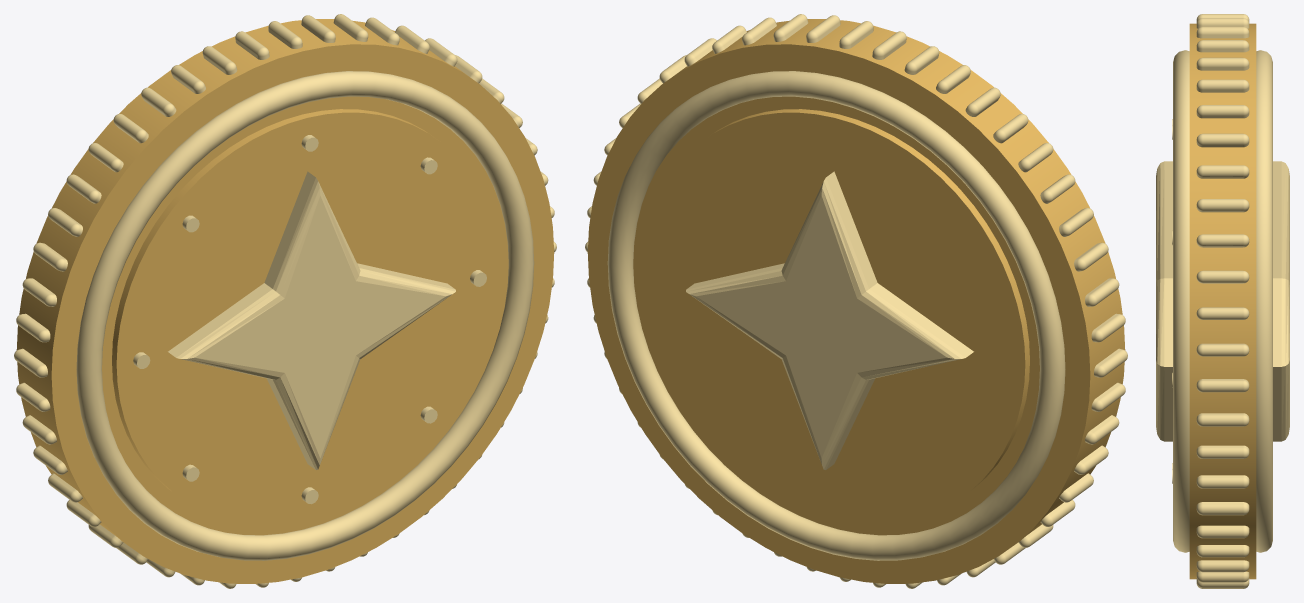
File: compute-coin.glb
3 views of the same model, side by side, from view 1: azimuth 30°, elevation 25°; view 2: azimuth 150°, elevation 25°; view 3: azimuth 270°, elevation 25° (orthographic). The views are drawn at different scales.
Parts seen in each view (by area): view 1: component (×4); view 2: component (×4); view 3: component (×29).
Boxes of the visible parts, box(x1,y1,x2,y2) form: component (×4): box(16, 19, 554, 583); component (×4): box(587, 19, 1125, 583); component (×29): box(1156, 14, 1289, 588).
Bounding box in the file's own units: 0.0414 × 0.0414 × 0.00962.
